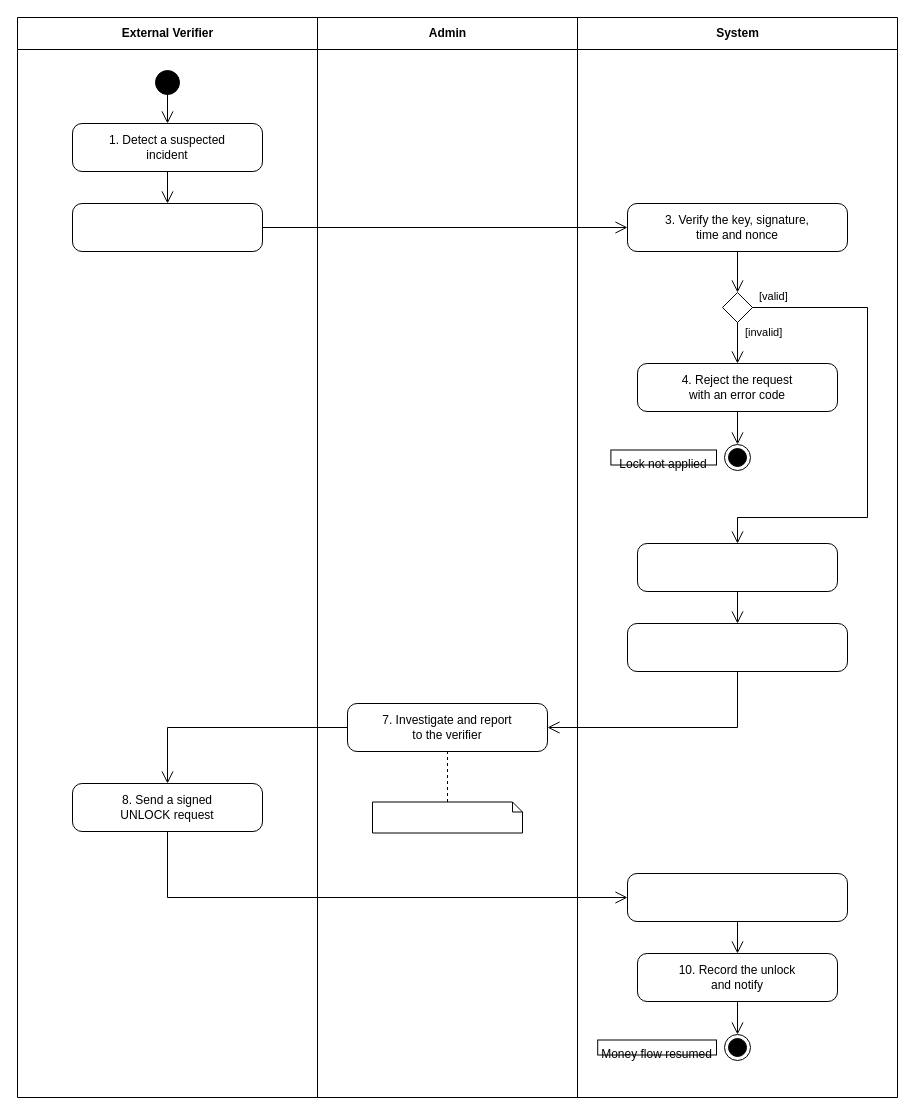
Some shapes in this 915 by 1115 pixel diagram are drawn without their labels. The shapes that lost their labels are listed below. From the top down, each one's centre as x and y in pixels, then its label:
At point 167,227: "2. Send a signed LOCK request".
At point 737,567: "5. Stop all money commands".
At point 737,647: "6. Record the lock, notify Admin and the verifier".
At point 447,817: "Admin cannot unlock".
At point 737,897: "9. Verify the request and resume money commands".
